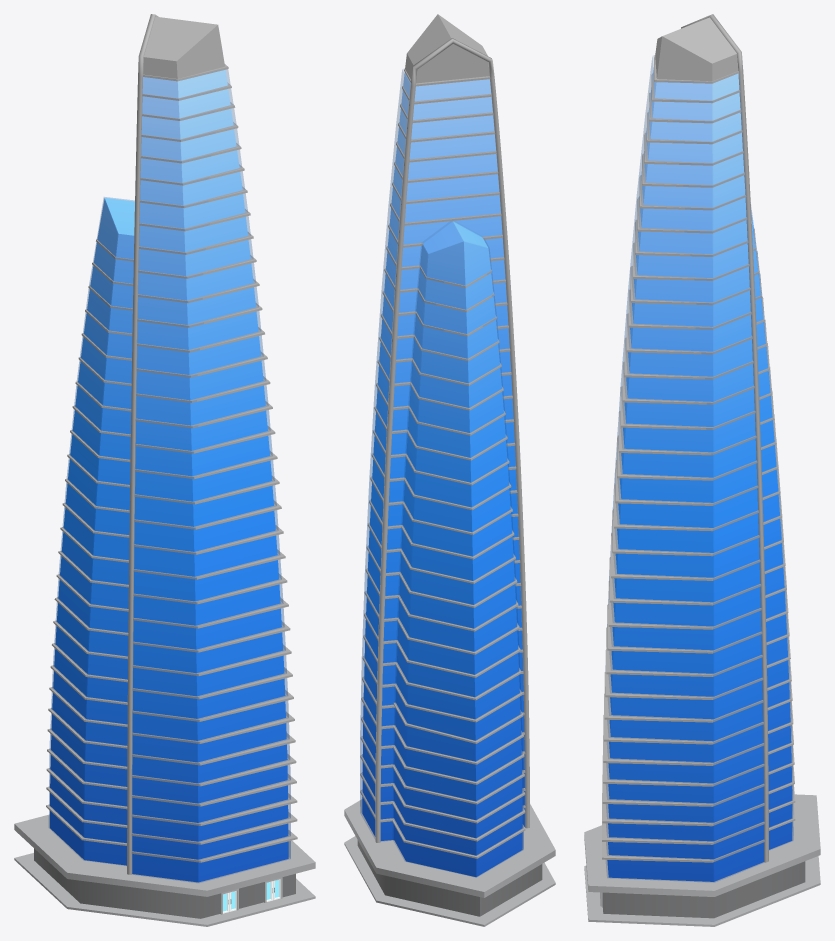
Rendered from Building_Skyscraper_09.glb.
The picture shows the model from 3 angles, left to right: view 1: azimuth 30°, elevation 25°; view 2: azimuth 150°, elevation 25°; view 3: azimuth 270°, elevation 25°; orthographic projection. The views are drawn at different scales.
Parts seen in each view (by area): view 1: Building_Skyscraper_09; view 2: Building_Skyscraper_09; view 3: Building_Skyscraper_09.
Part boxes in pixels (x1,y1,x2,y2): Building_Skyscraper_09: (14,14,315,926); Building_Skyscraper_09: (344,14,555,926); Building_Skyscraper_09: (584,14,820,926).
Size of the model in its own units: 23.39 by 92.91 by 23.19.
Materials: 2 (2 with a texture image).
